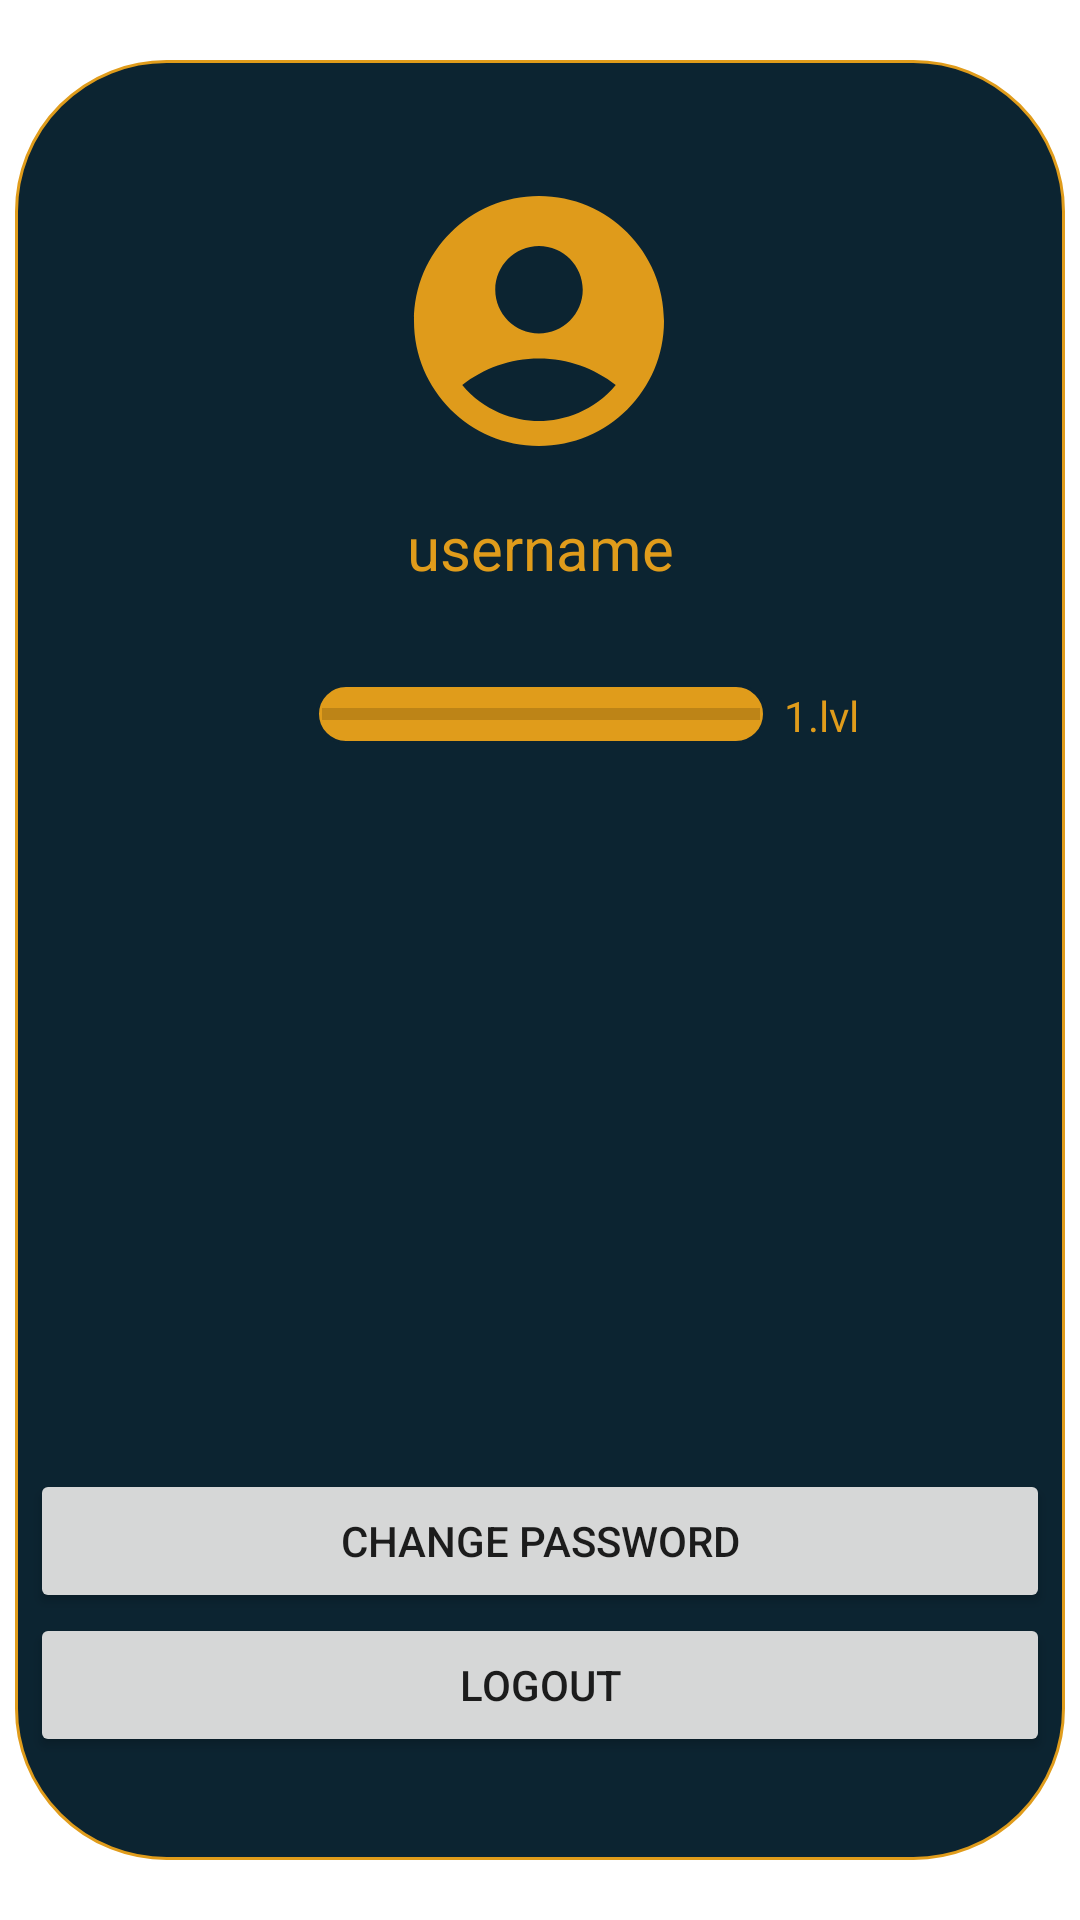

Screen size 1080×1920. Icon name, then its box in pixels as Rect(x1, y1, x2, y2):
account circle: Rect(414, 196, 664, 446)
